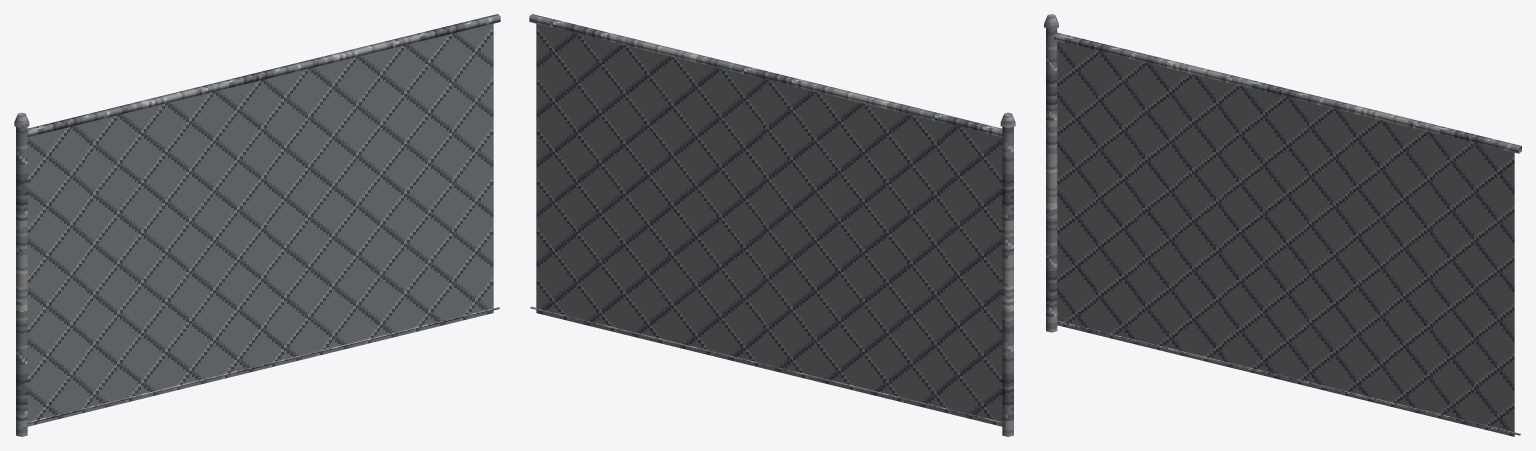
File: FN_ChainLink_2.5m.obj
3 renders of one model, left to right at view 1: azimuth 30°, elevation 25°; view 2: azimuth 150°, elevation 25°; view 3: azimuth 330°, elevation 25°, orthographic.
Visible parts, largest first — view 1: FN_ChainLink_2.5m_Mesh_M_Town_ChainLink, FN_ChainLink_2.5m_Mesh_M_Furn_MetalBrushed; view 2: FN_ChainLink_2.5m_Mesh_M_Town_ChainLink, FN_ChainLink_2.5m_Mesh_M_Furn_MetalBrushed; view 3: FN_ChainLink_2.5m_Mesh_M_Town_ChainLink, FN_ChainLink_2.5m_Mesh_M_Furn_MetalBrushed.
Part boxes in pixels (x1=…): FN_ChainLink_2.5m_Mesh_M_Town_ChainLink: x1=27, y1=23, x2=493, y2=426; FN_ChainLink_2.5m_Mesh_M_Furn_MetalBrushed: x1=14, y1=14, x2=500, y2=436; FN_ChainLink_2.5m_Mesh_M_Town_ChainLink: x1=536, y1=23, x2=1002, y2=426; FN_ChainLink_2.5m_Mesh_M_Furn_MetalBrushed: x1=529, y1=14, x2=1015, y2=436; FN_ChainLink_2.5m_Mesh_M_Town_ChainLink: x1=1057, y1=41, x2=1514, y2=436; FN_ChainLink_2.5m_Mesh_M_Furn_MetalBrushed: x1=1044, y1=14, x2=1521, y2=435.
Bounding box in the file's own units: 2.54 × 1.6 × 0.0692.
Materials: 2 (2 with a texture image).
